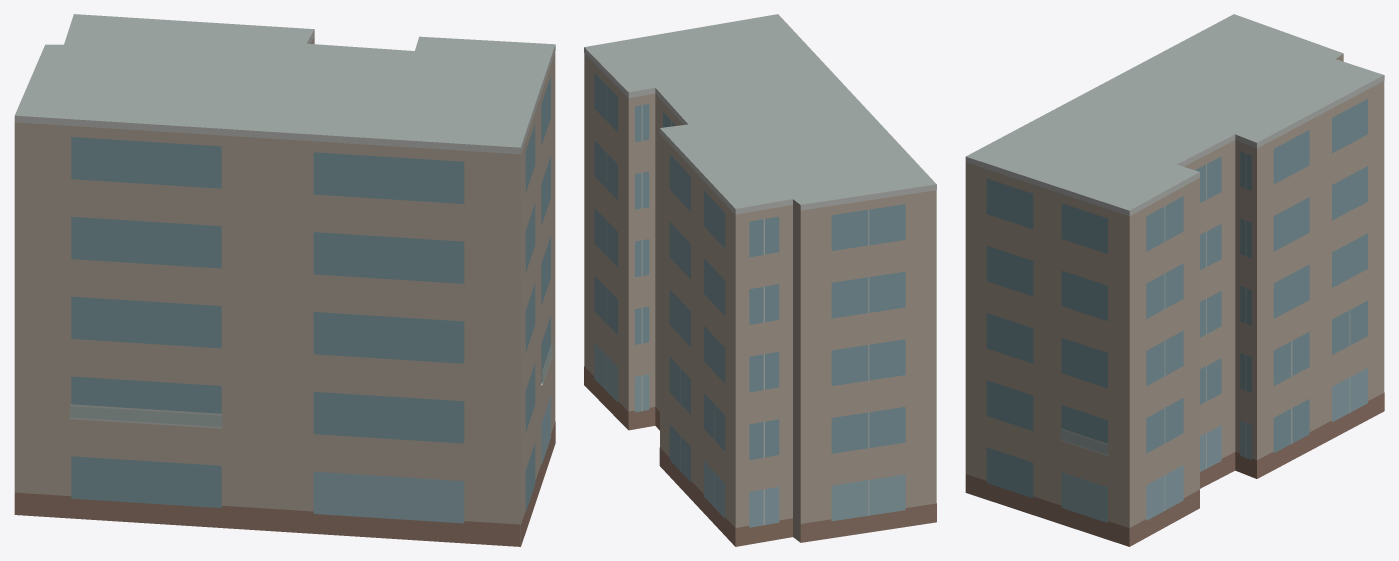
Rendered from survey-upis-32851467.glb.
The picture shows the model from 3 angles, left to right: view 1: azimuth 30°, elevation 25°; view 2: azimuth 150°, elevation 25°; view 3: azimuth 270°, elevation 25°; orthographic projection. The views are drawn at different scales.
Parts seen in each view (by area): view 1: survey-upis-32851467.tmp; view 2: survey-upis-32851467.tmp; view 3: survey-upis-32851467.tmp.
Boxes of the visible parts, x1,y1,x2,y2 form: survey-upis-32851467.tmp: (14, 14, 555, 546); survey-upis-32851467.tmp: (584, 14, 936, 546); survey-upis-32851467.tmp: (965, 14, 1384, 546).
Size of the model in its own units: 18.21 by 14.5 by 16.38.
